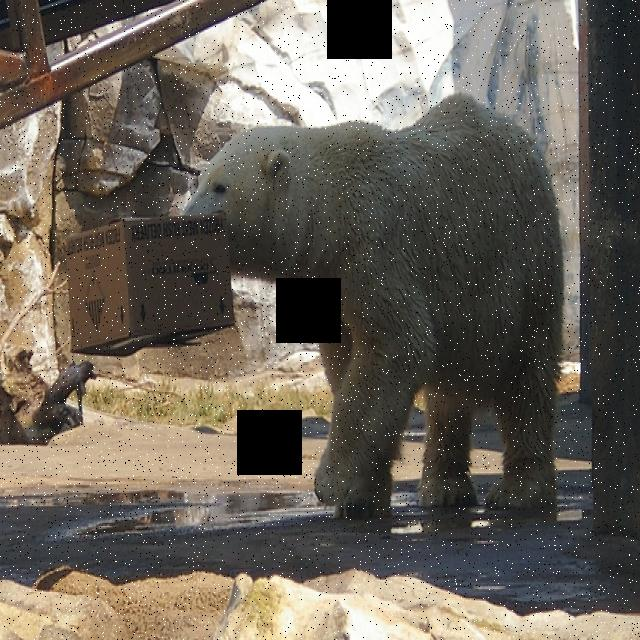Bear: (189, 81, 581, 535)
